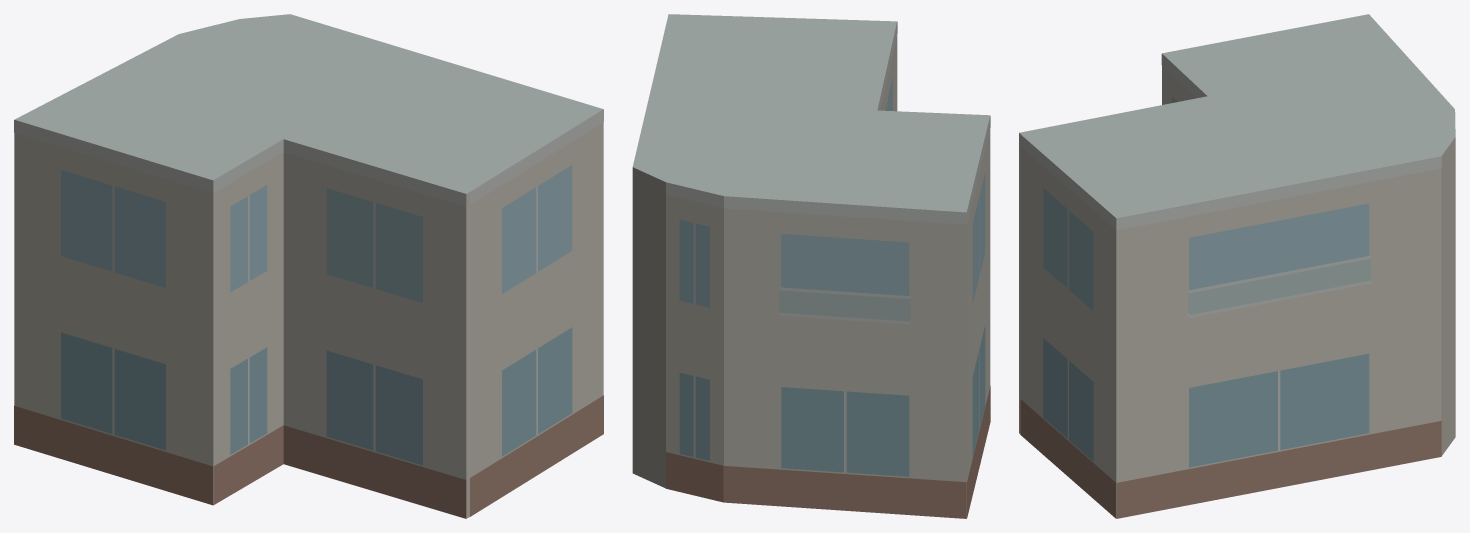
File: survey-upis-32463407.glb
3 views of the same model, side by side, from view 1: azimuth 30°, elevation 25°; view 2: azimuth 150°, elevation 25°; view 3: azimuth 270°, elevation 25° (orthographic). The views are drawn at different scales.
Visible parts, largest first — view 1: survey-upis-32463407.tmp; view 2: survey-upis-32463407.tmp; view 3: survey-upis-32463407.tmp.
Boxes of the visible parts, x1,y1,x2,y2 form: survey-upis-32463407.tmp: [14, 14, 603, 518]; survey-upis-32463407.tmp: [632, 14, 990, 518]; survey-upis-32463407.tmp: [1019, 14, 1455, 518].
Size of the model in its own units: 8.91 by 6.1 by 8.04.
